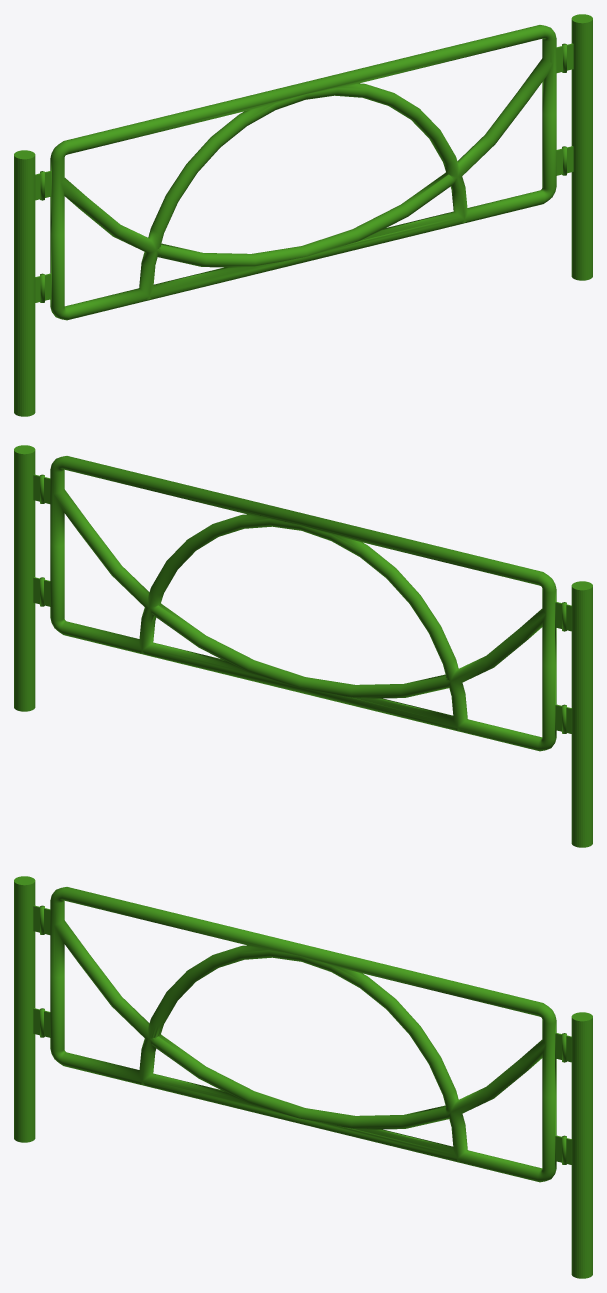
File: Guard fence1.fbx
3 views of the same model, one above another, from view 1: azimuth 30°, elevation 25°; view 2: azimuth 150°, elevation 25°; view 3: azimuth 330°, elevation 25° (orthographic).
Visible parts, largest first — view 1: Guard fence1; view 2: Guard fence1; view 3: Guard fence1.
Part boxes in pixels (x1=…): Guard fence1: x1=14, y1=14, x2=592, y2=416; Guard fence1: x1=14, y1=445, x2=592, y2=847; Guard fence1: x1=14, y1=876, x2=592, y2=1278.
Bounding box in the file's own units: 140 × 60.8 × 4.5.
